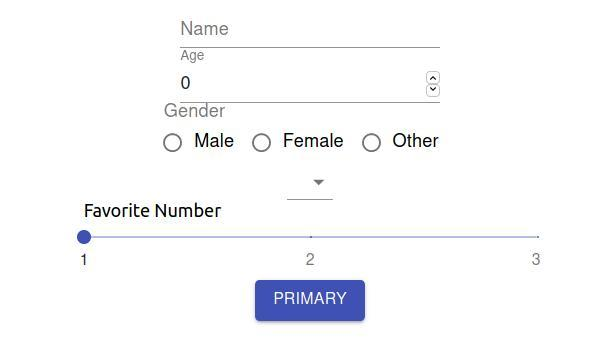button: (256, 281, 367, 322)
label: (83, 201, 230, 223), (283, 130, 345, 153), (166, 104, 229, 121), (194, 131, 237, 152), (394, 134, 442, 152), (182, 22, 231, 38), (181, 50, 207, 63)
radio: (252, 132, 274, 156), (163, 132, 188, 153), (362, 132, 383, 155)
